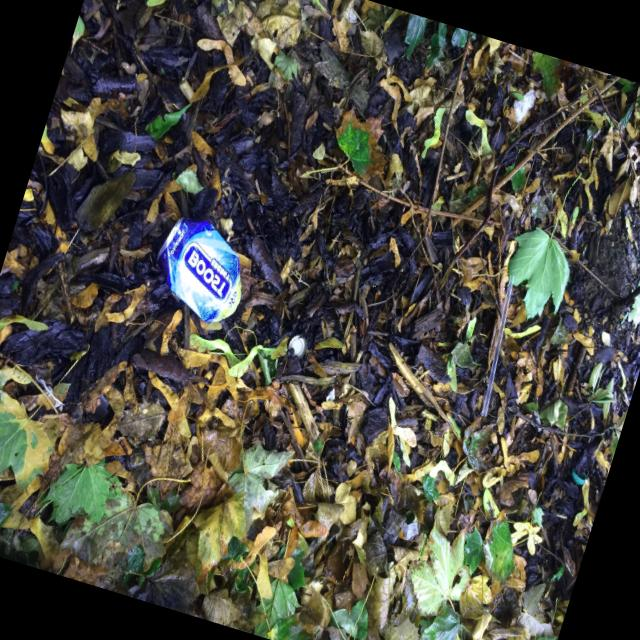less trash: (157, 218, 241, 322)
